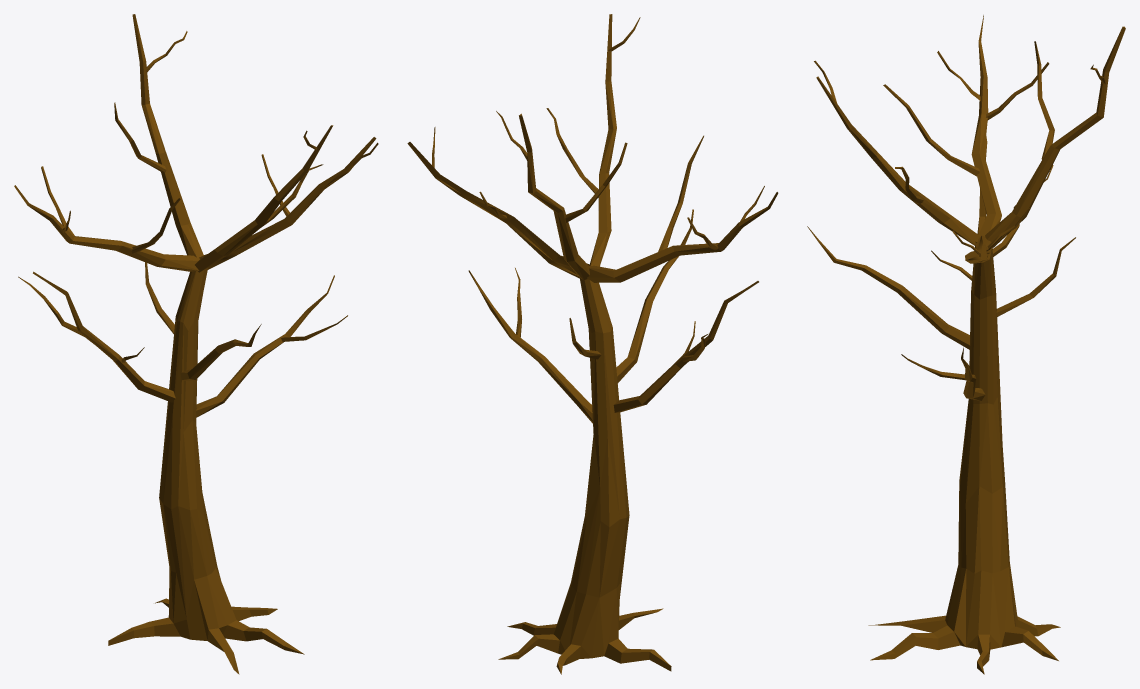
Rendered from Acacia Tree3.fbx.
3 views of the same model, side by side, from view 1: azimuth 30°, elevation 25°; view 2: azimuth 150°, elevation 25°; view 3: azimuth 270°, elevation 25° (orthographic). The views are drawn at different scales.
Visible parts, largest first — view 1: Tree3; view 2: Tree3; view 3: Tree3.
Part boxes in pixels (x1,y1,x2,y2): Tree3: (14, 14, 378, 674); Tree3: (407, 14, 778, 674); Tree3: (807, 15, 1125, 674).
Bounding box in the file's own units: 522 × 784 × 373.
Materials: 1 (1 with a texture image).
